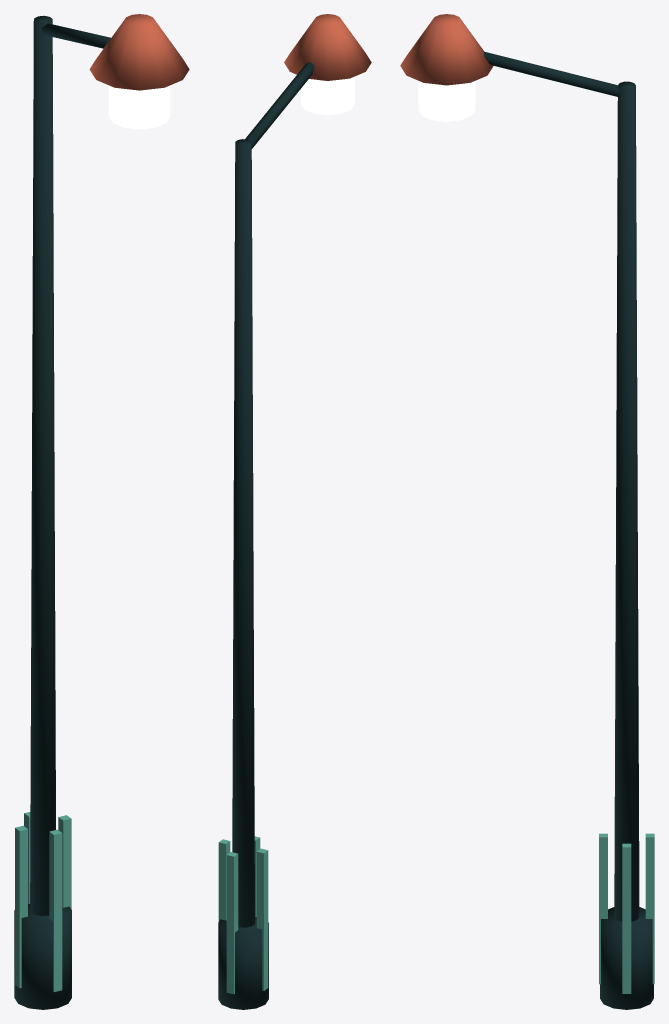
Rendered from oc_lamp_01.glb.
The picture shows the model from 3 angles, left to right: view 1: azimuth 30°, elevation 25°; view 2: azimuth 150°, elevation 25°; view 3: azimuth 270°, elevation 25°; orthographic projection. The views are drawn at different scales.
Visible parts, largest first — view 1: LOD1_OC_Charcoal, LOD1_OC_Coral, LOD1_OC_Deco_Mint, LOD1_OC_Lamp_Glow; view 2: LOD1_OC_Charcoal, LOD1_OC_Deco_Mint, LOD1_OC_Coral, LOD1_OC_Lamp_Glow; view 3: LOD1_OC_Charcoal, LOD1_OC_Coral, LOD1_OC_Deco_Mint, LOD1_OC_Lamp_Glow.
Part boxes in pixels (x1=…): LOD1_OC_Charcoal: x1=14, y1=15, x2=110, y2=1009; LOD1_OC_Coral: x1=89, y1=14, x2=189, y2=90; LOD1_OC_Deco_Mint: x1=15, y1=812, x2=71, y2=991; LOD1_OC_Lamp_Glow: x1=108, y1=85, x2=170, y2=129; LOD1_OC_Charcoal: x1=218, y1=62, x2=314, y2=1009; LOD1_OC_Deco_Mint: x1=218, y1=836, x2=268, y2=994; LOD1_OC_Coral: x1=284, y1=14, x2=371, y2=80; LOD1_OC_Lamp_Glow: x1=301, y1=76, x2=354, y2=115; LOD1_OC_Charcoal: x1=483, y1=51, x2=653, y2=1009; LOD1_OC_Coral: x1=400, y1=14, x2=493, y2=85; LOD1_OC_Deco_Mint: x1=599, y1=833, x2=654, y2=993; LOD1_OC_Lamp_Glow: x1=418, y1=81, x2=475, y2=121.
Bounding box in the file's own units: 0.52 × 6 × 1.41.
